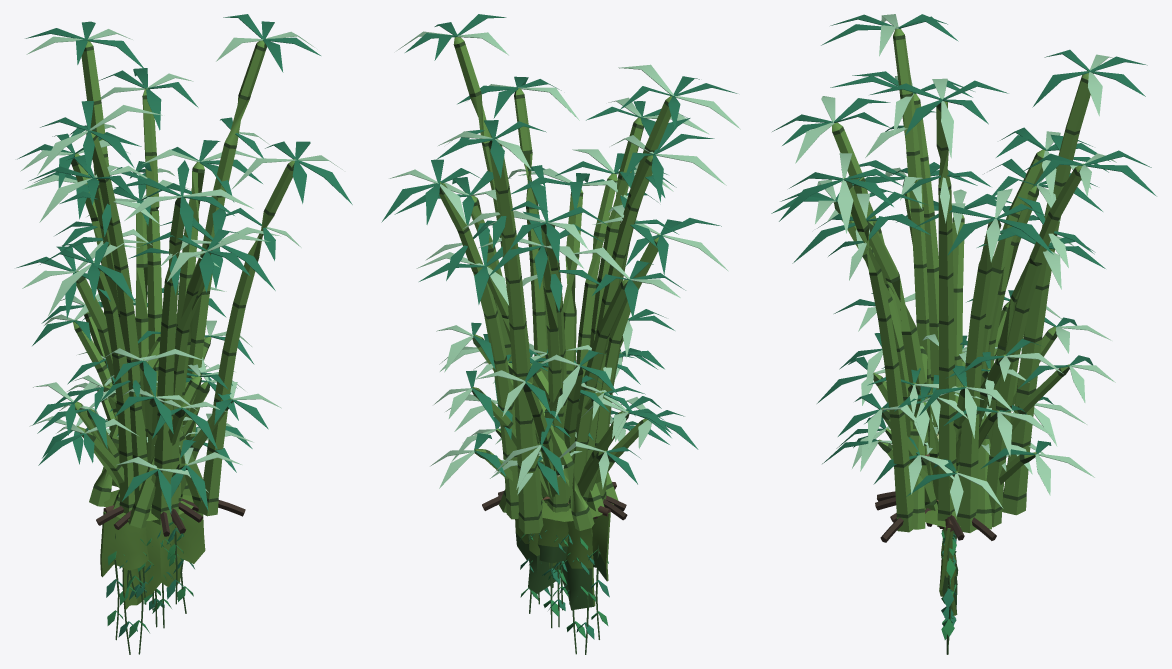
Rendered from JadeGrove_Bamboo.fbx.
The picture shows the model from 3 angles, left to right: view 1: azimuth 30°, elevation 25°; view 2: azimuth 150°, elevation 25°; view 3: azimuth 270°, elevation 25°; orthographic projection. The views are drawn at different scales.
Parts seen in each view (by area): view 1: JG_Bamboo_Grove_G1__Culm, JG_Bamboo_Grove_G1__LeafMid, JG_Bamboo_Grove_G2__Culm, JG_Bamboo_Grove_G2__LeafMid, JG_Bamboo_Grove_G1__LeafPale, JG_Bamboo_Clump_K1__LeafMid, JG_Bamboo_Clump_K1__Culm, JG_Moss_Curtain_M1__Moss, JG_Bamboo_Grove_G2__LeafPale, JG_Bamboo_Arch_H1__Culm, JG_Bamboo_Clump_K2__LeafMid, JG_Moss_Curtain_M2__Moss (+12 smaller); view 2: JG_Bamboo_Grove_G1__Culm, JG_Bamboo_Grove_G2__Culm, JG_Bamboo_Grove_G1__LeafMid, JG_Bamboo_Grove_G2__LeafMid, JG_Bamboo_Grove_G1__LeafPale, JG_Bamboo_Clump_K1__LeafPale, JG_Bamboo_Clump_K1__LeafMid, JG_Bamboo_Grove_G2__LeafPale, JG_Bamboo_Clump_K1__Culm, JG_Bamboo_Arch_H1__Culm, JG_Bamboo_Clump_K2__LeafPale, JG_Bamboo_Clump_K2__LeafMid (+11 smaller); view 3: JG_Bamboo_Grove_G1__Culm, JG_Bamboo_Grove_G2__Culm, JG_Bamboo_Grove_G1__LeafMid, JG_Bamboo_Grove_G1__LeafPale, JG_Bamboo_Grove_G2__LeafMid, JG_Bamboo_Clump_K1__LeafPale, JG_Bamboo_Clump_K1__Culm, JG_Bamboo_Clump_K1__LeafMid, JG_Bamboo_Clump_K2__LeafPale, JG_Bamboo_Grove_G1__CulmNode, JG_Bamboo_Grove_G2__LeafPale, JG_Bamboo_Arch_H1__Culm (+6 smaller).
Part boxes in pixels (<box>): JG_Bamboo_Grove_G1__Culm: <box>72,39,294,525</box>; JG_Bamboo_Grove_G1__LeafMid: <box>17,14,352,295</box>; JG_Bamboo_Grove_G2__Culm: <box>76,162,211,514</box>; JG_Bamboo_Grove_G2__LeafMid: <box>16,140,275,318</box>; JG_Bamboo_Grove_G1__LeafPale: <box>20,29,342,267</box>; JG_Bamboo_Clump_K1__LeafMid: <box>32,288,268,449</box>; JG_Bamboo_Clump_K1__Culm: <box>73,311,231,500</box>; JG_Moss_Curtain_M1__Moss: <box>100,510,205,577</box>; JG_Bamboo_Grove_G2__LeafPale: <box>22,149,280,315</box>; JG_Bamboo_Arch_H1__Culm: <box>89,336,202,528</box>; JG_Bamboo_Clump_K2__LeafMid: <box>38,390,252,513</box>; JG_Moss_Curtain_M2__Moss: <box>122,521,181,609</box>; JG_Bamboo_Grove_G1__Culm: <box>439,37,672,534</box>; JG_Bamboo_Grove_G2__Culm: <box>471,173,659,520</box>; JG_Bamboo_Grove_G1__LeafMid: <box>381,14,737,312</box>; JG_Bamboo_Grove_G2__LeafMid: <box>394,153,721,318</box>; JG_Bamboo_Grove_G1__LeafPale: <box>389,31,740,297</box>; JG_Bamboo_Clump_K1__LeafPale: <box>434,320,632,441</box>; JG_Bamboo_Clump_K1__LeafMid: <box>466,309,674,439</box>; JG_Bamboo_Grove_G2__LeafPale: <box>416,149,728,305</box>; JG_Bamboo_Clump_K1__Culm: <box>472,320,629,503</box>; JG_Bamboo_Arch_H1__Culm: <box>499,353,618,530</box>; JG_Bamboo_Clump_K2__LeafPale: <box>430,397,651,494</box>; JG_Bamboo_Clump_K2__LeafMid: <box>474,410,698,494</box>; JG_Bamboo_Grove_G1__Culm: <box>832,28,1090,532</box>; JG_Bamboo_Grove_G2__Culm: <box>834,185,1037,532</box>; JG_Bamboo_Grove_G1__LeafMid: <box>772,14,1156,256</box>; JG_Bamboo_Grove_G1__LeafPale: <box>795,14,1116,280</box>; JG_Bamboo_Grove_G2__LeafMid: <box>771,159,1105,268</box>; JG_Bamboo_Clump_K1__LeafPale: <box>858,293,1115,456</box>; JG_Bamboo_Clump_K1__Culm: <box>873,301,1069,510</box>; JG_Bamboo_Clump_K1__LeafMid: <box>817,290,1092,436</box>; JG_Bamboo_Clump_K2__LeafPale: <box>852,403,1094,516</box>; JG_Bamboo_Grove_G1__CulmNode: <box>832,34,1093,518</box>; JG_Bamboo_Grove_G2__LeafPale: <box>815,167,1073,289</box>; JG_Bamboo_Arch_H1__Culm: <box>908,346,993,529</box>.
Bounding box in the file's own units: 26.12 × 47.59 × 26.45.
